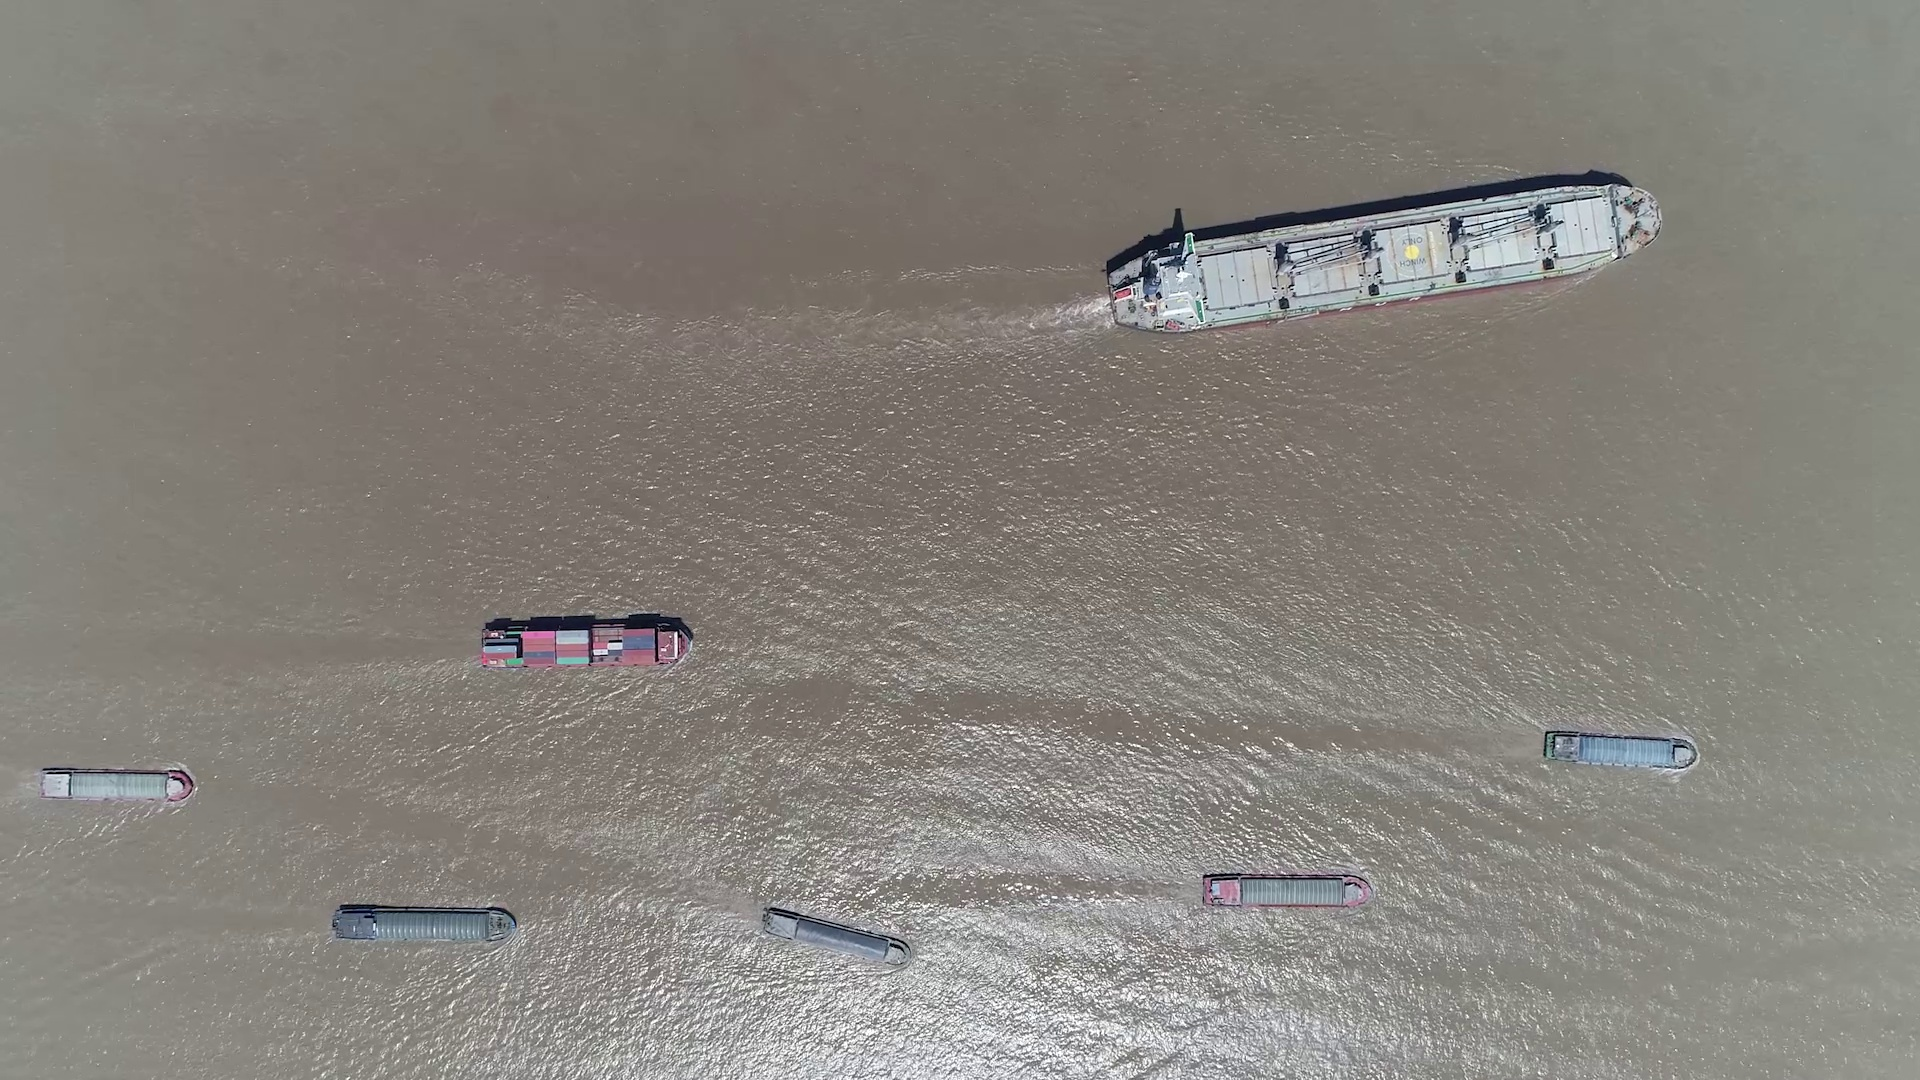ship: (1106, 183, 1660, 328), (479, 618, 691, 669), (760, 906, 909, 965), (332, 905, 514, 944), (1542, 729, 1695, 769), (1204, 873, 1373, 909), (37, 767, 191, 803)
